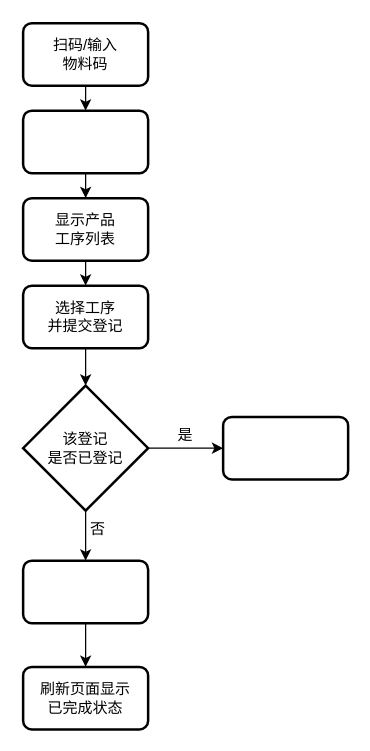
This 370x751 diagram has some shape labels left out. Each missing label, with the centre of its shape:
"写入生产记录 submitRecord" belongs at (85,591).
"提示已登记" belongs at (285,447).
"查询产品信息 getProductInfo" belongs at (85,141).
